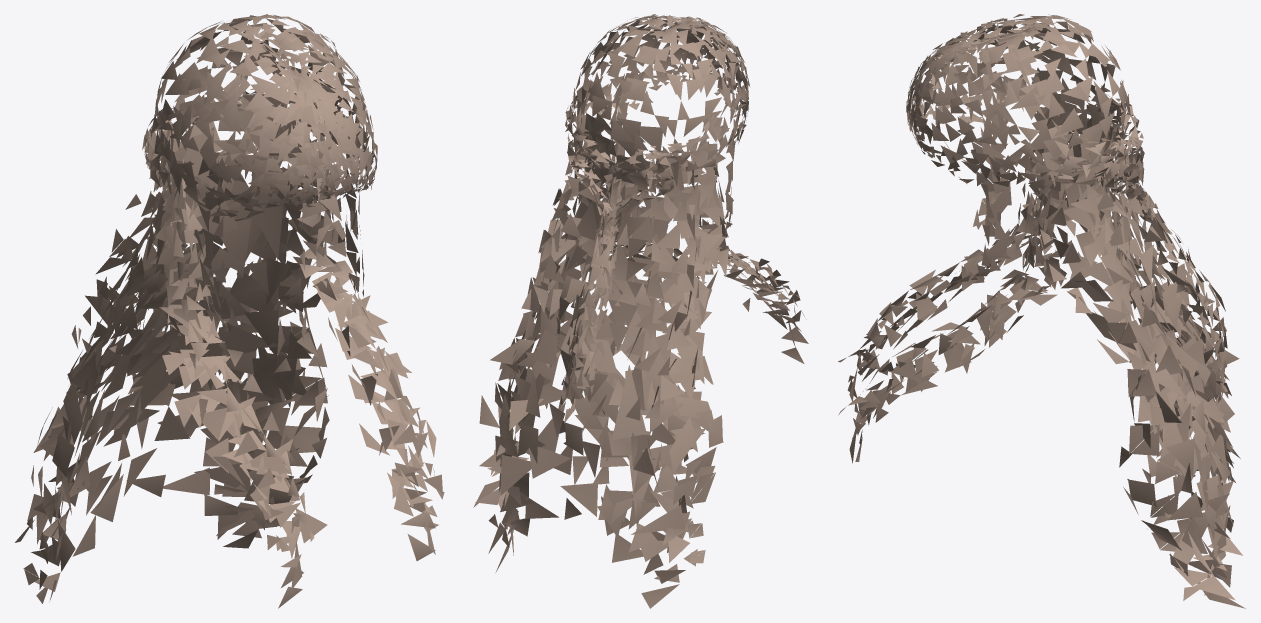
The model's file is female_hair_01_lod1.glb.
3 views of the same model, side by side, from view 1: azimuth 30°, elevation 25°; view 2: azimuth 150°, elevation 25°; view 3: azimuth 270°, elevation 25° (orthographic). The views are drawn at different scales.
Visible parts, largest first — view 1: female-hair-01; view 2: female-hair-01; view 3: female-hair-01.
Part boxes in pixels (x1=…): female-hair-01: x1=15, y1=14, x2=444, y2=608; female-hair-01: x1=473, y1=14, x2=808, y2=608; female-hair-01: x1=838, y1=14, x2=1245, y2=608.
Size of the model in its own units: 0.291 by 0.6073 by 0.4073.
